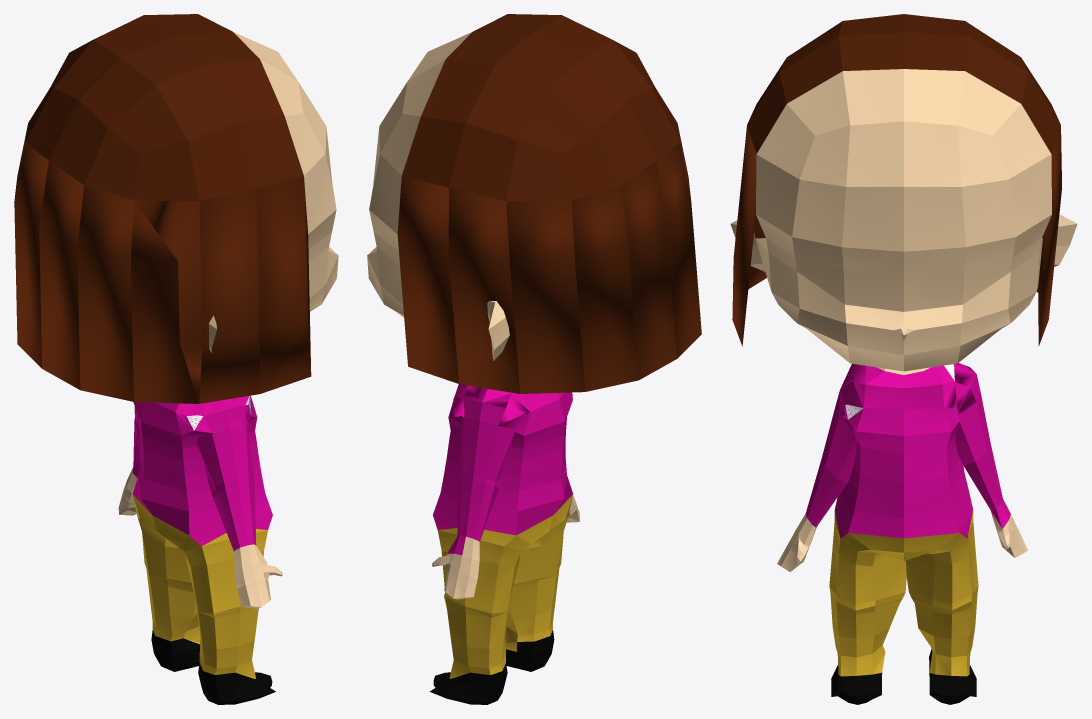
The picture shows the model from 3 angles, left to right: view 1: azimuth 30°, elevation 25°; view 2: azimuth 150°, elevation 25°; view 3: azimuth 270°, elevation 25°; orthographic projection.
Parts seen in each view (by area): view 1: head2; view 2: head2; view 3: head2.
Boxes of the visible parts, x1,y1,x2,y2 form: head2: (14, 14, 338, 704); head2: (367, 14, 701, 704); head2: (730, 14, 1077, 704).
Bounding box in the file's own units: 6.02 × 12.96 × 6.35.
6 materials, 1 textured.
